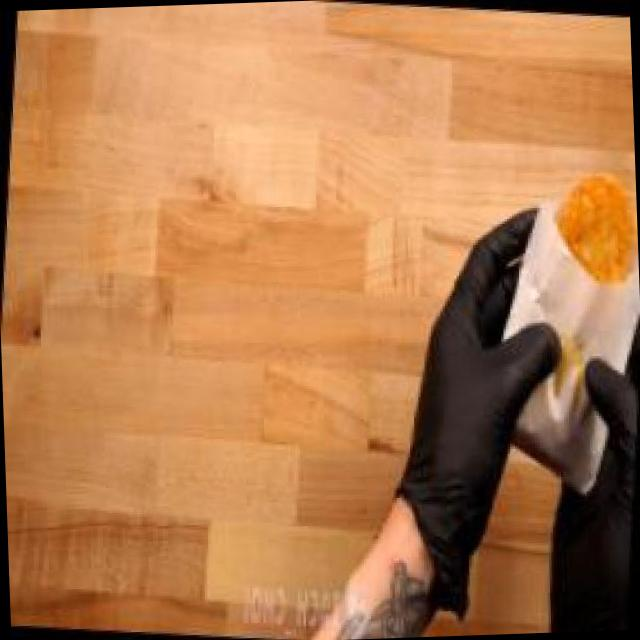Hashbrown: (526, 151, 640, 303)
